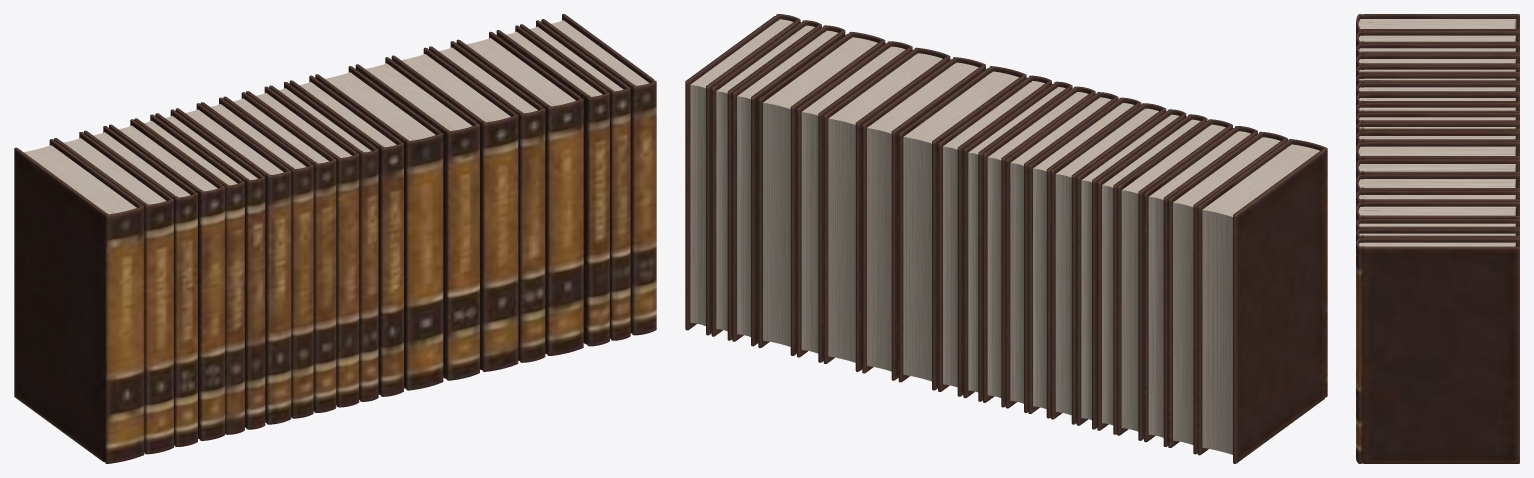
Rendered from book_encyclopedia_set_01.gltf.
3 renders of one model, left to right at view 1: azimuth 30°, elevation 25°; view 2: azimuth 150°, elevation 25°; view 3: azimuth 270°, elevation 25°, orthographic. The views are drawn at different scales.
Visible parts, largest first — view 1: book_encyclopedia_set_01_book01, book_encyclopedia_set_01_book13, book_encyclopedia_set_01_book15, book_encyclopedia_set_01_book17, book_encyclopedia_set_01_book14, book_encyclopedia_set_01_book02, book_encyclopedia_set_01_book16, book_encyclopedia_set_01_book04, book_encyclopedia_set_01_book18, book_encyclopedia_set_01_book20, book_encyclopedia_set_01_book07, book_encyclopedia_set_01_book12 (+8 smaller); view 2: book_encyclopedia_set_01_book01, book_encyclopedia_set_01_book13, book_encyclopedia_set_01_book15, book_encyclopedia_set_01_book17, book_encyclopedia_set_01_book14, book_encyclopedia_set_01_book02, book_encyclopedia_set_01_book04, book_encyclopedia_set_01_book16, book_encyclopedia_set_01_book18, book_encyclopedia_set_01_book20, book_encyclopedia_set_01_book07, book_encyclopedia_set_01_book12 (+8 smaller); view 3: book_encyclopedia_set_01_book20, book_encyclopedia_set_01_book13, book_encyclopedia_set_01_book01, book_encyclopedia_set_01_book17, book_encyclopedia_set_01_book15, book_encyclopedia_set_01_book14, book_encyclopedia_set_01_book02, book_encyclopedia_set_01_book16, book_encyclopedia_set_01_book03, book_encyclopedia_set_01_book12, book_encyclopedia_set_01_book07, book_encyclopedia_set_01_book04 (+8 smaller).
Boxes of the visible parts, x1,y1,x2,y2 form: book_encyclopedia_set_01_book01: (14,139,144,463); book_encyclopedia_set_01_book13: (315,66,443,390); book_encyclopedia_set_01_book15: (391,47,518,371); book_encyclopedia_set_01_book17: (456,31,583,355); book_encyclopedia_set_01_book14: (355,57,479,380); book_encyclopedia_set_01_book02: (54,132,173,454); book_encyclopedia_set_01_book16: (429,41,545,362); book_encyclopedia_set_01_book04: (109,119,224,440); book_encyclopedia_set_01_book18: (496,25,609,346); book_encyclopedia_set_01_book20: (541,14,656,335); book_encyclopedia_set_01_book07: (175,103,291,424); book_encyclopedia_set_01_book12: (289,75,403,396); book_encyclopedia_set_01_book01: (1197,139,1327,463); book_encyclopedia_set_01_book13: (898,66,1026,390); book_encyclopedia_set_01_book15: (823,47,950,371); book_encyclopedia_set_01_book17: (758,32,885,355); book_encyclopedia_set_01_book14: (862,57,985,380); book_encyclopedia_set_01_book02: (1168,131,1287,454); book_encyclopedia_set_01_book04: (1117,119,1232,440); book_encyclopedia_set_01_book16: (797,41,912,362); book_encyclopedia_set_01_book18: (732,25,845,346); book_encyclopedia_set_01_book20: (685,14,800,335); book_encyclopedia_set_01_book07: (1051,103,1166,424); book_encyclopedia_set_01_book12: (938,75,1051,396); book_encyclopedia_set_01_book20: (1356,238,1519,463); book_encyclopedia_set_01_book13: (1356,142,1519,164); book_encyclopedia_set_01_book01: (1356,14,1519,35); book_encyclopedia_set_01_book17: (1356,202,1519,222); book_encyclopedia_set_01_book15: (1356,174,1519,194); book_encyclopedia_set_01_book14: (1356,159,1519,180); book_encyclopedia_set_01_book02: (1356,30,1519,47); book_encyclopedia_set_01_book16: (1356,190,1519,208); book_encyclopedia_set_01_book03: (1356,43,1519,58); book_encyclopedia_set_01_book12: (1356,131,1519,148); book_encyclopedia_set_01_book07: (1356,82,1519,96); book_encyclopedia_set_01_book04: (1356,54,1519,68).
Bounding box in the file's own units: 0.5513 × 0.2374 × 0.1631.
